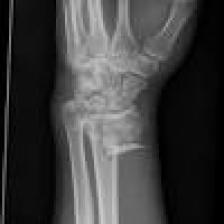intra-articular-fracture: (52, 0, 197, 224)
